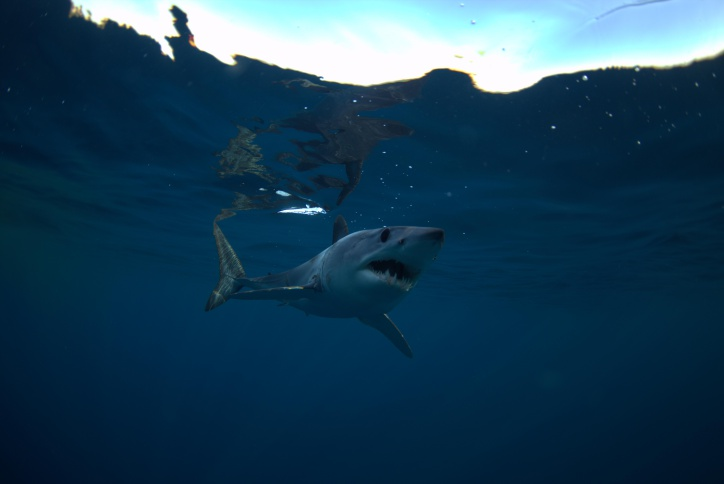Mako: (174, 201, 458, 376)
